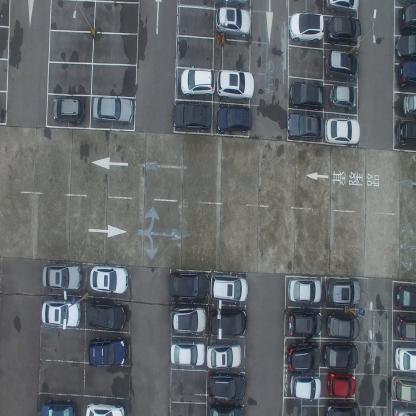car: (171, 102, 213, 133), (168, 270, 210, 301), (87, 334, 127, 366), (41, 297, 81, 329), (288, 10, 324, 44), (217, 68, 255, 100), (210, 271, 248, 303), (93, 95, 133, 125), (87, 300, 127, 330), (210, 308, 248, 338), (90, 264, 128, 294), (42, 262, 82, 290), (170, 304, 207, 334), (180, 66, 216, 96), (215, 8, 251, 38), (326, 277, 362, 307), (215, 104, 252, 133), (286, 112, 324, 140), (208, 372, 246, 400), (286, 342, 321, 372), (206, 341, 242, 370), (170, 339, 206, 368), (327, 15, 361, 45), (325, 49, 360, 78), (323, 341, 358, 370), (290, 81, 326, 109), (324, 117, 360, 144), (326, 312, 360, 340), (52, 97, 85, 124), (288, 276, 322, 302), (288, 310, 322, 336), (290, 375, 322, 402), (327, 370, 356, 398), (390, 373, 416, 402), (329, 84, 356, 110), (394, 344, 416, 374), (324, 398, 360, 416), (40, 398, 76, 416), (85, 400, 125, 416), (325, 0, 359, 16), (396, 120, 416, 147), (395, 32, 415, 59), (396, 283, 416, 310), (395, 313, 415, 340), (399, 3, 415, 35), (398, 60, 416, 88), (208, 401, 243, 415), (402, 93, 416, 116), (212, 0, 250, 8), (393, 404, 416, 415)
